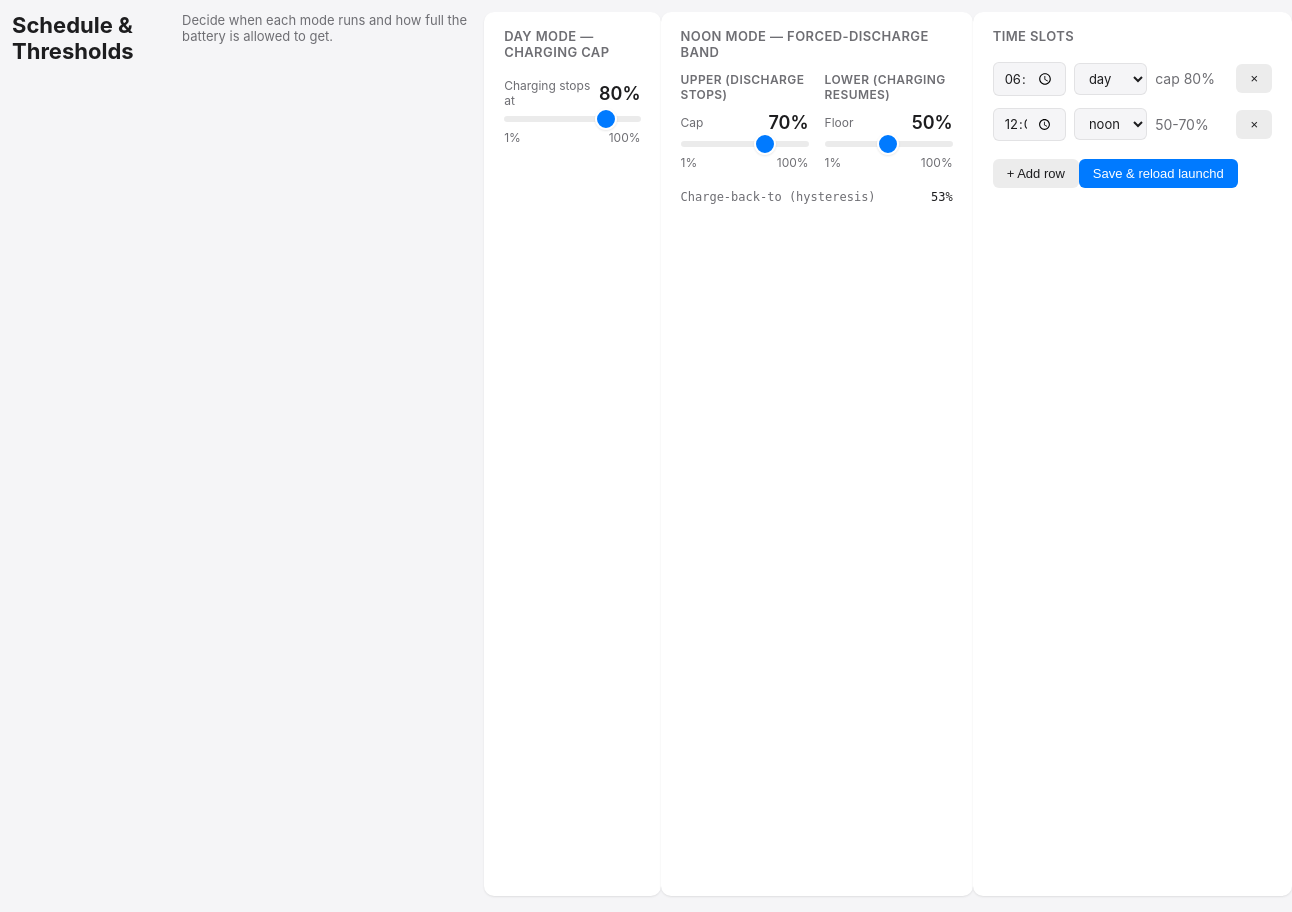
Scenario: SchedulePage › noon-lower slider clamps when set above upper
Set the slider with test id "slider-noon-lower" to "80" at {"x": 922, "y": 144}, box [825,141,953,147]
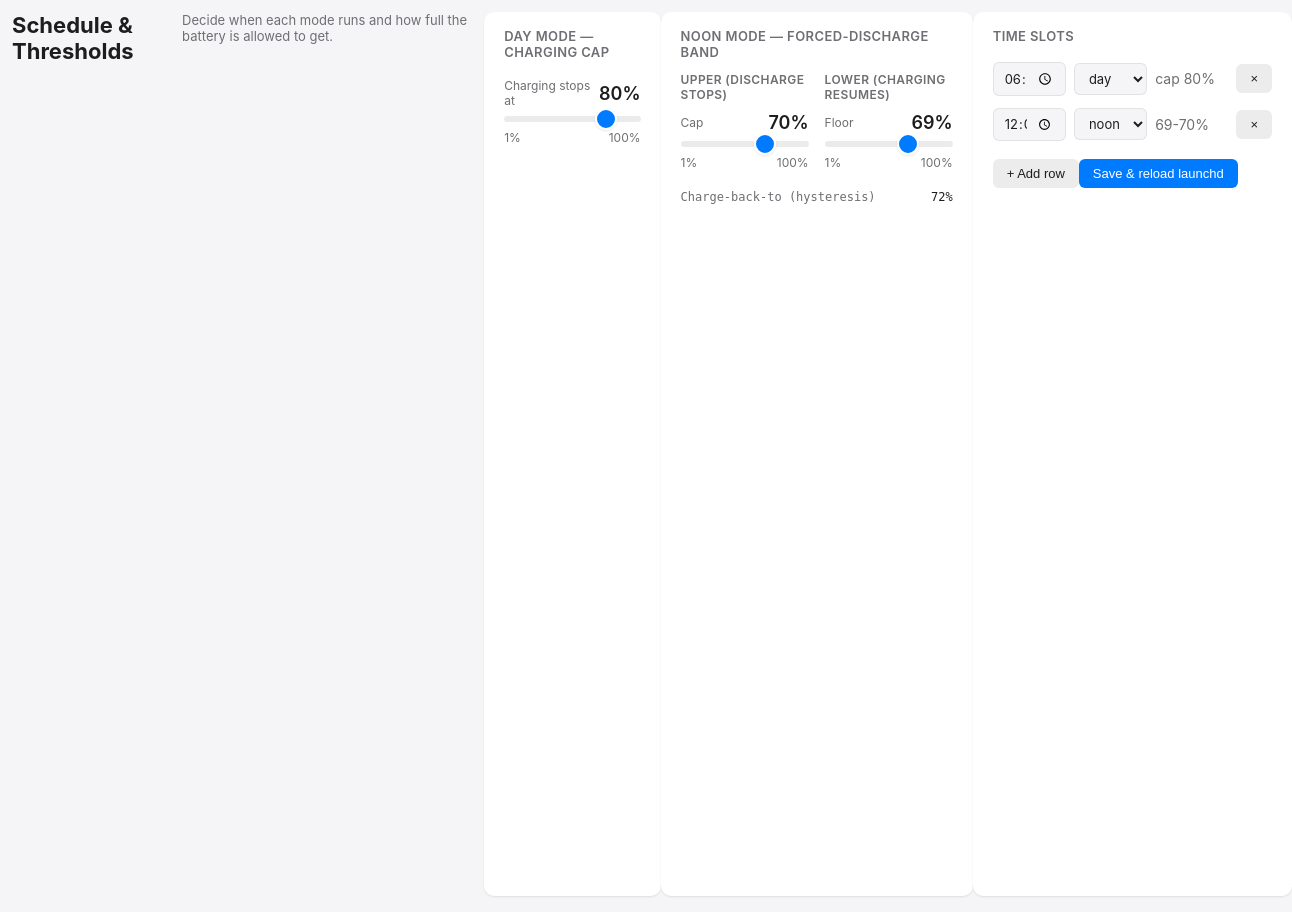
Result: the text with test id "slider-noon-lower-value" reads "69%" at [912,112,953,133]
